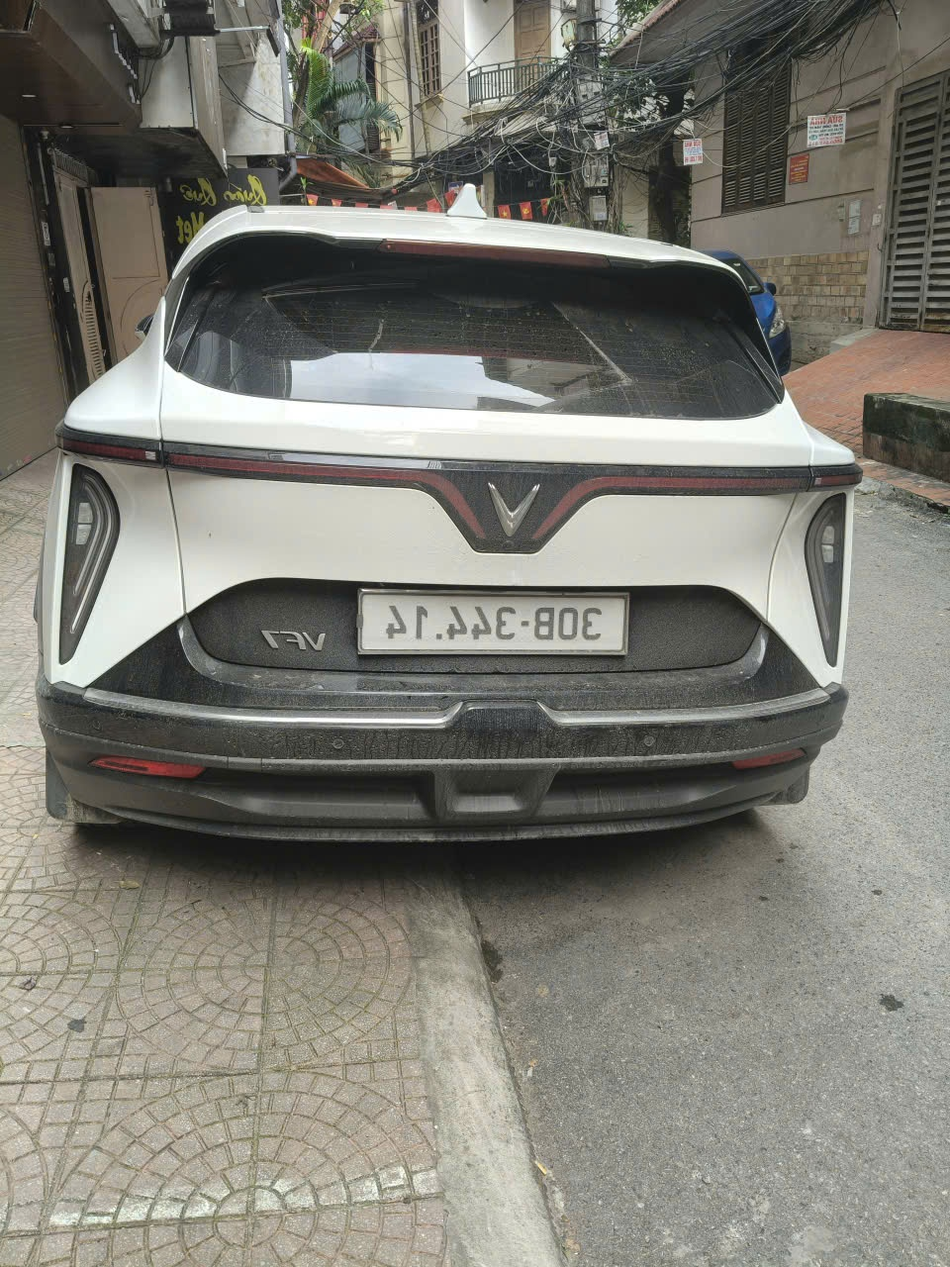plate: (61, 427, 162, 462)
